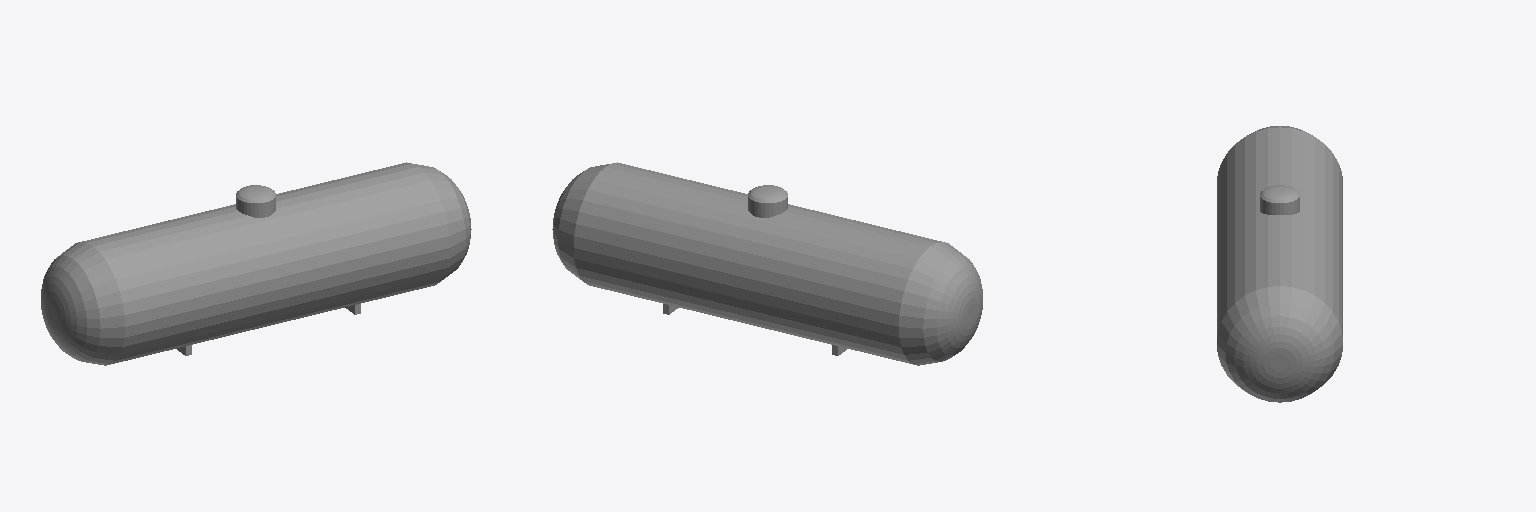
The model's file is Propane_Tank.obj.
3 views of the same model, side by side, from view 1: azimuth 30°, elevation 25°; view 2: azimuth 150°, elevation 25°; view 3: azimuth 270°, elevation 25° (orthographic).
Parts seen in each view (by area): view 1: Cylinder.044_Cylinder.001; view 2: Cylinder.044_Cylinder.001; view 3: Cylinder.044_Cylinder.001.
Part boxes in pixels (x1,y1,x2,y2): Cylinder.044_Cylinder.001: (41, 162, 471, 365); Cylinder.044_Cylinder.001: (552, 162, 982, 365); Cylinder.044_Cylinder.001: (1217, 126, 1342, 402).
Size of the model in its own units: 3.52 by 1.09 by 0.9525.